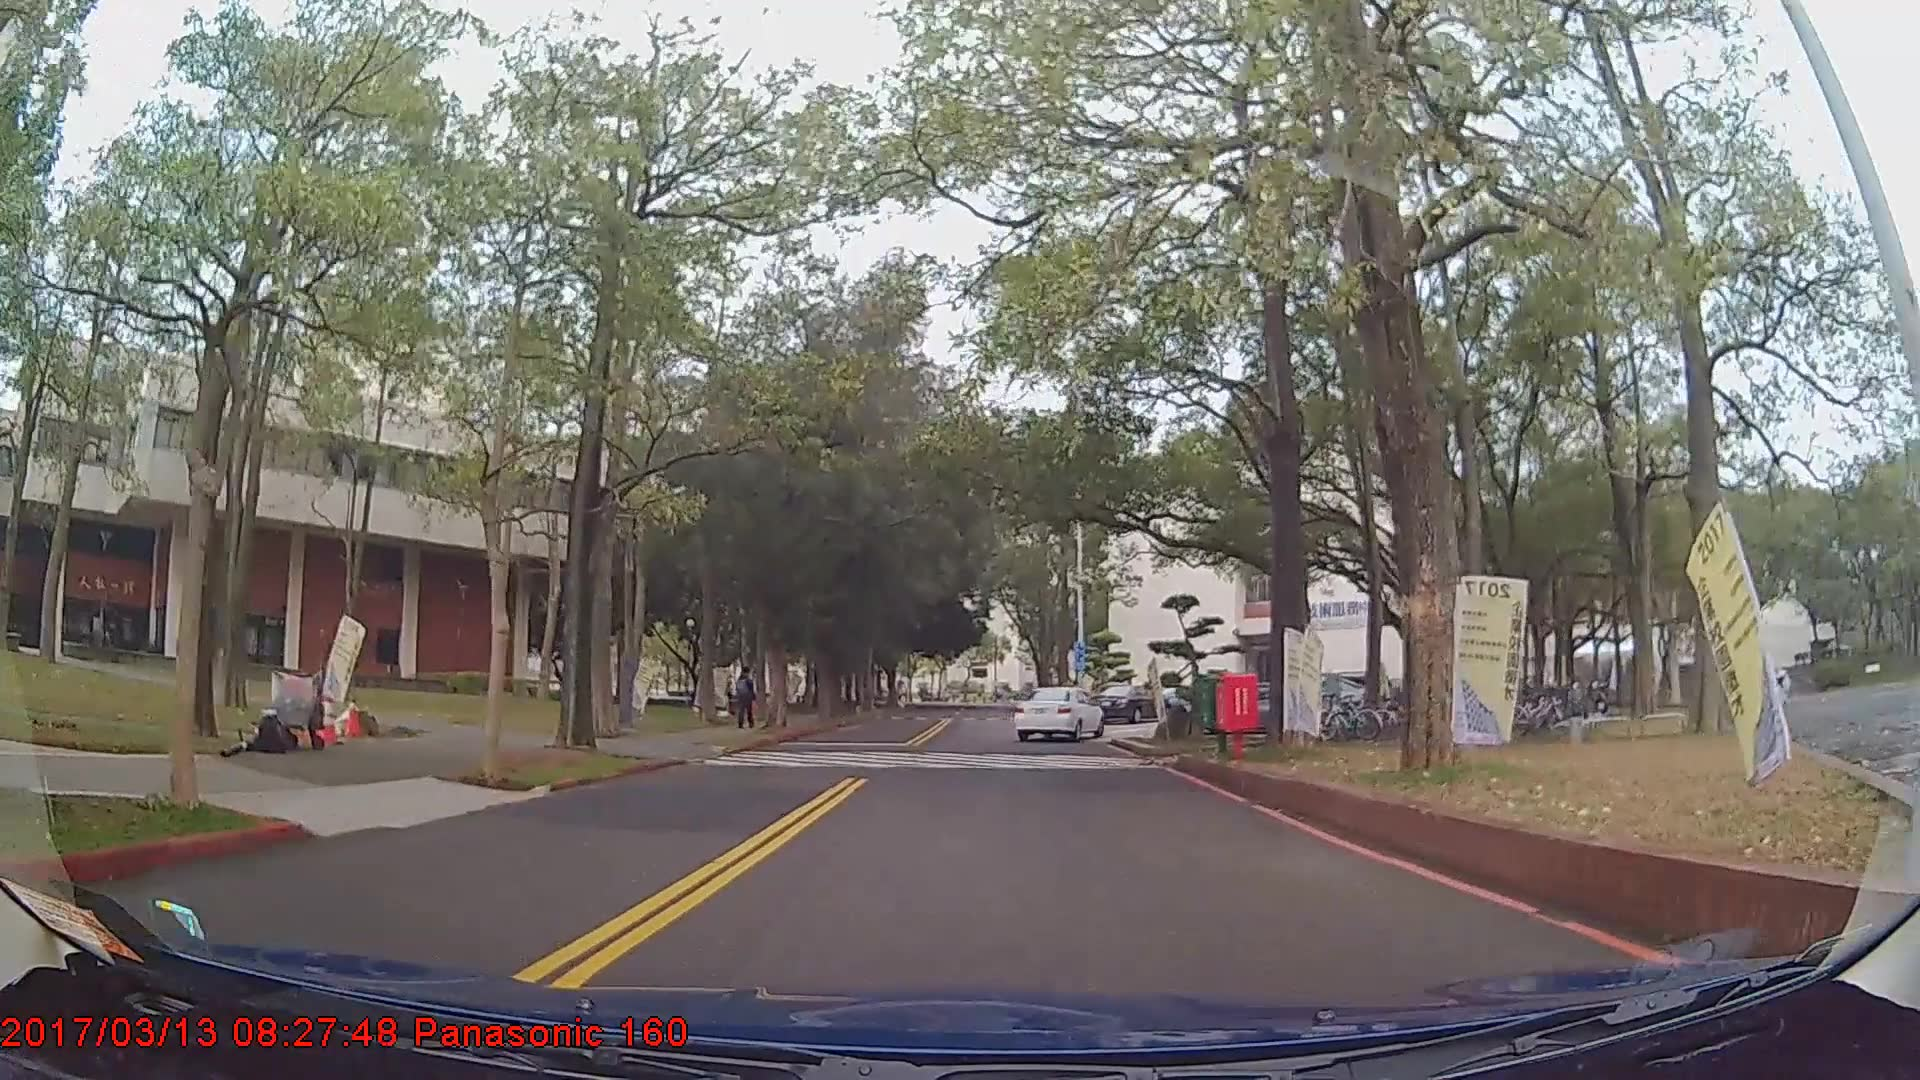pedestrian: (735, 668, 759, 730)
vehicle: (1013, 683, 1103, 743), (1094, 680, 1173, 722)
